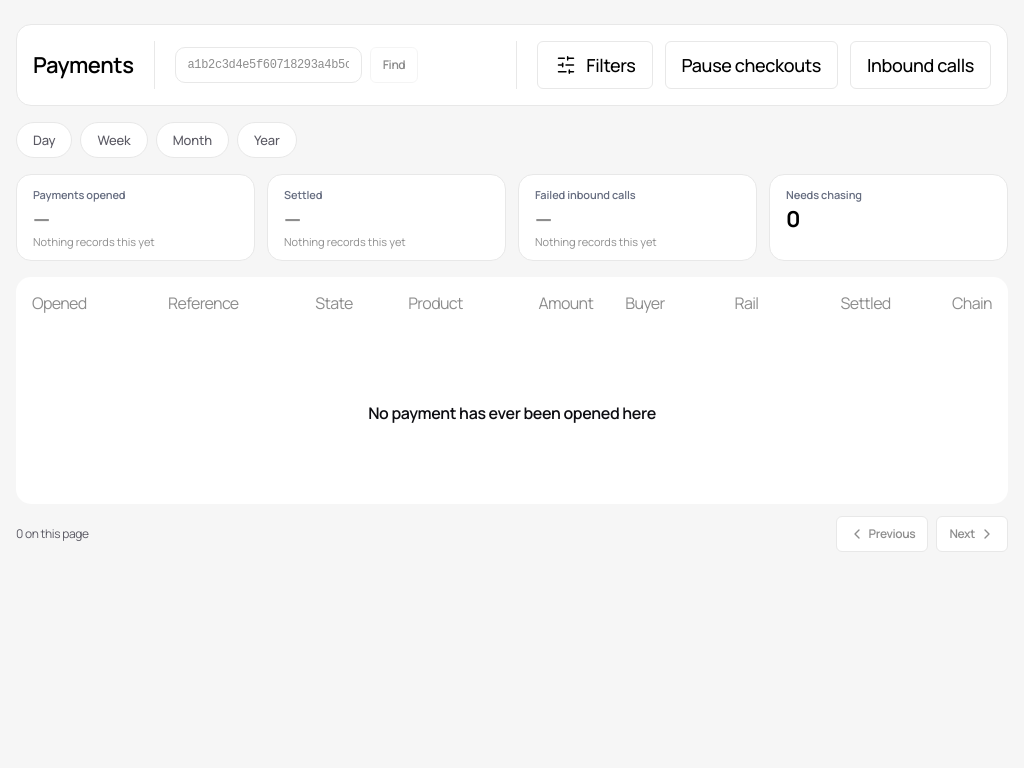
Test: IntentsScreen — the filter panel is the screen's only narrowing › stays shut on an unfiltered page and opens on request
Click the button "Filters" at (595, 65), box [537,41,652,89]
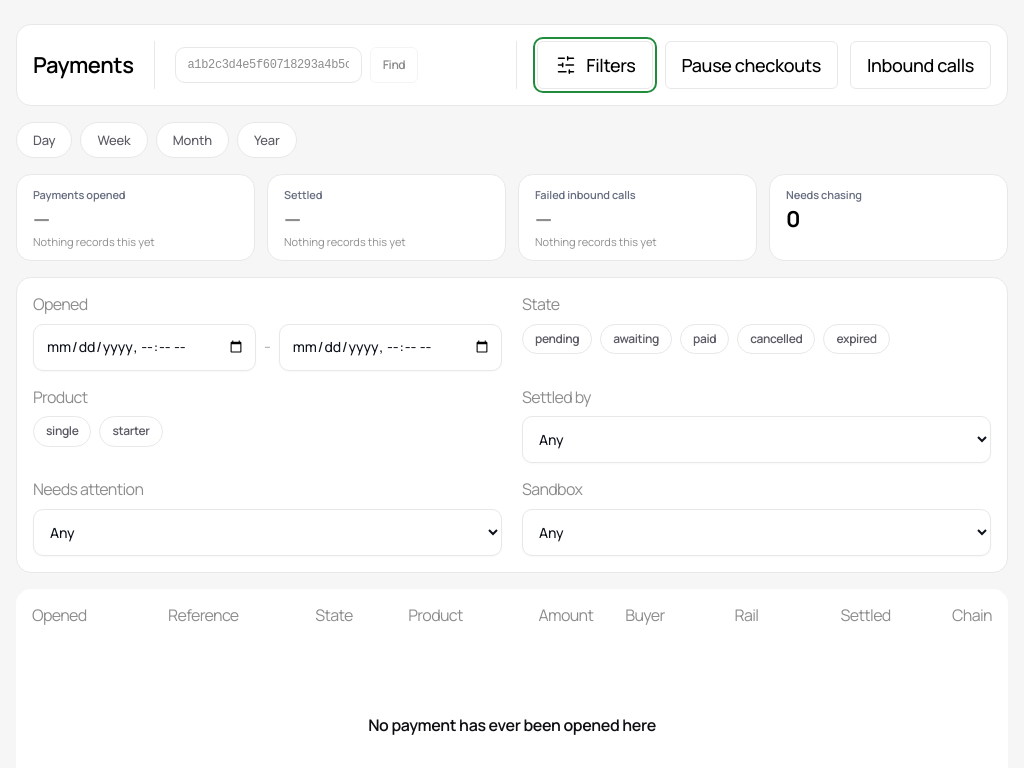
Expected: the element named "State" is shown, [522,324,890,354]
